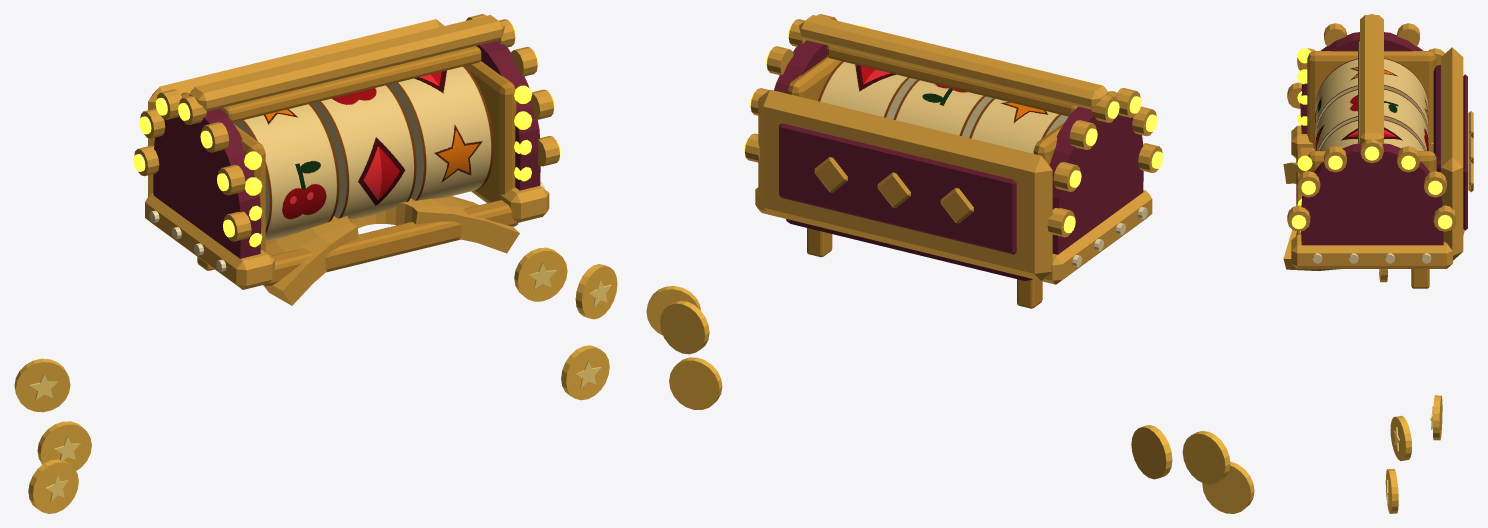
The model's file is jackpot-arcade-v2-accessories.fbx.
The picture shows the model from 3 angles, left to right: view 1: azimuth 30°, elevation 25°; view 2: azimuth 150°, elevation 25°; view 3: azimuth 270°, elevation 25°; orthographic projection. The views are drawn at different scales.
Visible parts, largest first — view 1: SymbolReel_2, SymbolReel_1, SymbolReel_0, JackpotArchCase_-1, JackpotCrestRail, JackpotBackSaddle, FrontSill, UpperRail, ReelSide_0.585, JackpotBasePlinth_-1, JackpotBackShield, JackpotArchCase_1 (+8 smaller); view 2: JackpotBackShield, JackpotBackEnamel, JackpotCrestRail, JackpotArchCase_-1, SymbolReel_2, SymbolReel_1, SymbolReel_0, UpperRail, JackpotBasePlinth_-1, GoldToken_0, GoldToken_4, GoldToken_3 (+10 smaller); view 3: JackpotArchCase_1, JackpotBackShield, JackpotBasePlinth_1, ReelSide_-0.585, JackpotCrestRail, SymbolReel_0, SymbolReel_1, SymbolReel_2, JackpotArchCase_-1, GoldToken_2, RearHousing, JackpotBackEnamel (+17 smaller).
Part boxes in pixels (x1,y1,x2,y2): SymbolReel_2: [388, 66, 493, 200]; SymbolReel_1: [311, 85, 416, 219]; SymbolReel_0: [233, 103, 339, 241]; JackpotArchCase_-1: [153, 108, 261, 258]; JackpotCrestRail: [189, 15, 504, 111]; JackpotBackSaddle: [263, 196, 519, 305]; FrontSill: [264, 200, 517, 286]; UpperRail: [220, 46, 481, 122]; ReelSide_0.585: [465, 61, 516, 203]; JackpotBasePlinth_-1: [145, 193, 274, 289]; JackpotBackShield: [148, 19, 444, 196]; JackpotArchCase_1: [476, 41, 540, 190]; JackpotBackShield: [758, 89, 1052, 280]; JackpotBackEnamel: [779, 123, 1016, 254]; JackpotCrestRail: [799, 15, 1108, 109]; JackpotArchCase_-1: [1049, 106, 1143, 254]; SymbolReel_2: [818, 61, 916, 119]; SymbolReel_1: [893, 79, 992, 137]; SymbolReel_0: [969, 98, 1068, 153]; UpperRail: [827, 45, 1077, 116]; JackpotBasePlinth_-1: [1038, 190, 1152, 284]; GoldToken_0: [669, 357, 722, 409]; GoldToken_4: [660, 300, 709, 354]; GoldToken_3: [1182, 431, 1230, 484]; JackpotArchCase_1: [1301, 143, 1443, 245]; JackpotBackShield: [1441, 47, 1463, 260]; JackpotBasePlinth_1: [1291, 235, 1452, 268]; ReelSide_-0.585: [1307, 51, 1436, 150]; JackpotCrestRail: [1360, 15, 1383, 144]; SymbolReel_0: [1315, 58, 1428, 136]; SymbolReel_1: [1315, 88, 1428, 150]; SymbolReel_2: [1319, 119, 1424, 150]; JackpotArchCase_-1: [1300, 32, 1422, 133]; GoldToken_2: [1390, 415, 1411, 461]; RearHousing: [1433, 64, 1440, 172]; JackpotBackEnamel: [1463, 74, 1467, 230].
Size of the model in its own units: 1686 by 1108 by 565.
13 materials, 3 textured.
